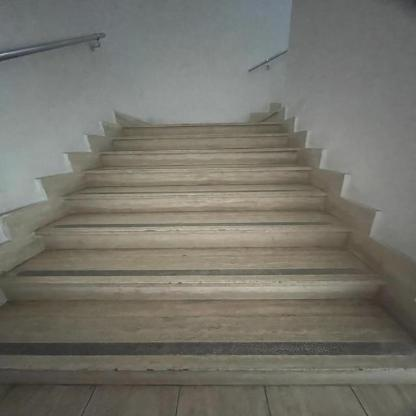stair: (21, 104, 360, 414)
